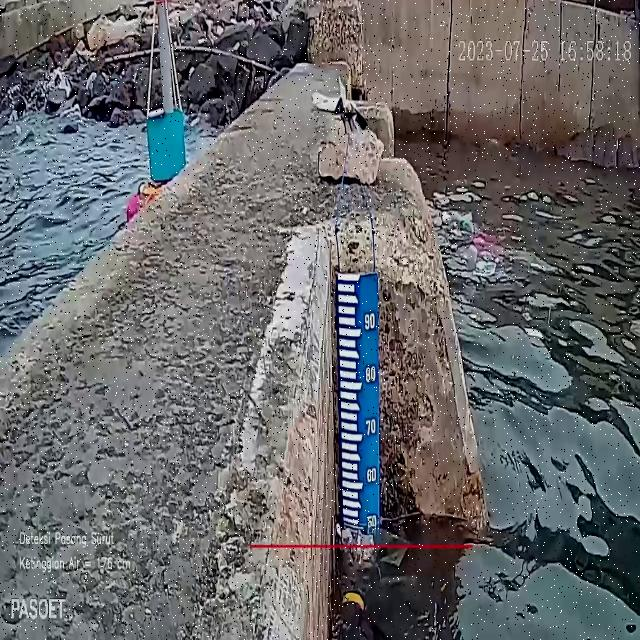50: (367, 514, 377, 527)
60: (367, 467, 378, 482)
70: (366, 418, 377, 437)
80: (366, 366, 376, 382)
90: (364, 313, 376, 330)
staff: (338, 272, 378, 528)
